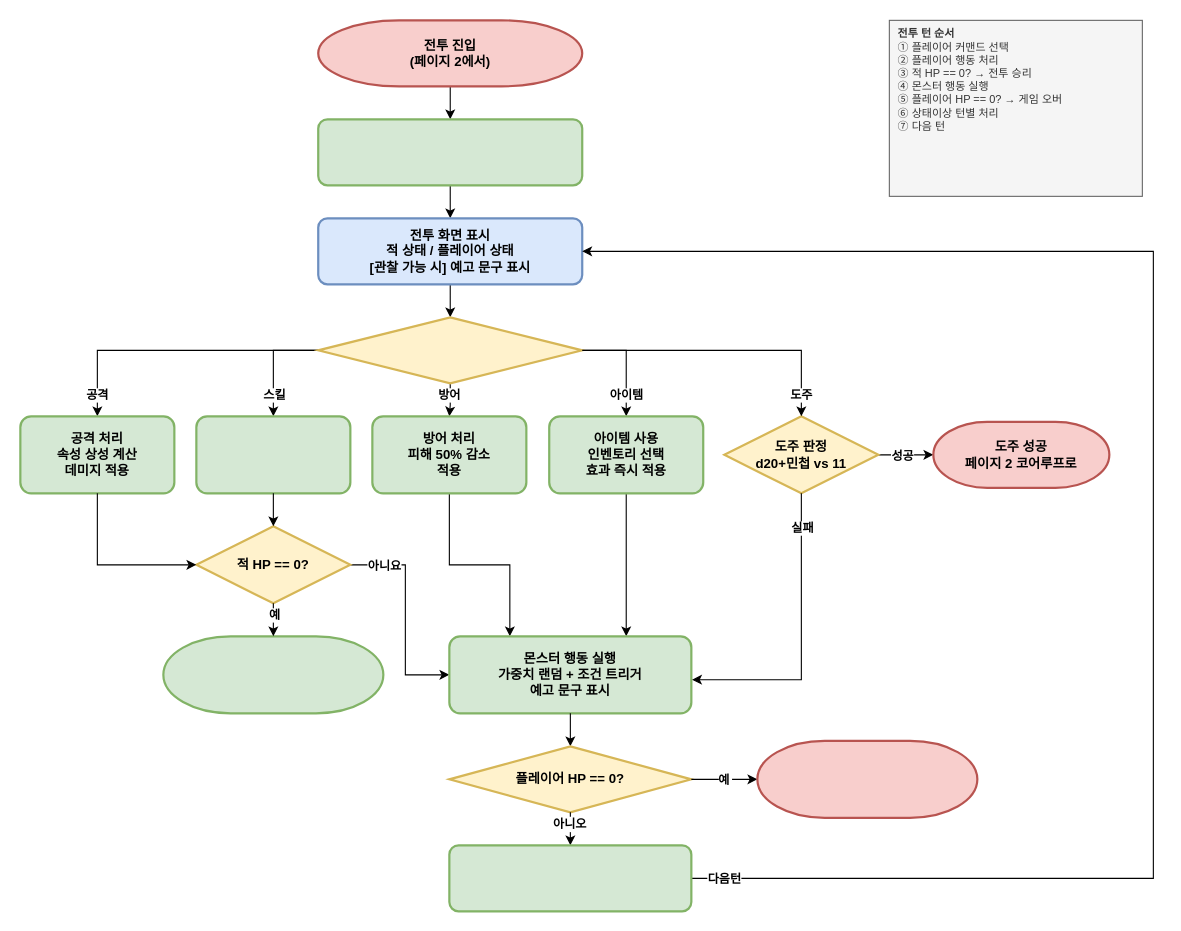
This 1181x931 diagram has some shape labels left out. Here are the shapes that lost their labels. From the top down, the centre of each, then its label:
point 450,152: Battle::Initialize() 몬스터 결정 · HP/MP 확인 nextAction 내부 결정 (항상) 관찰 가능 시에만 UI 표시
point 450,350: 커맨드 선택?
point 273,454: 스킬 처리 MP 소모 효과 적용
point 273,674: 전투 승리 → 상태이상 자연회복 판정 → 페이지 2로
point 867,778: 전투 패배 → 게임 오버 → 페이지 1로
point 570,878: 상태이상 처리 턴별 효과 적용
